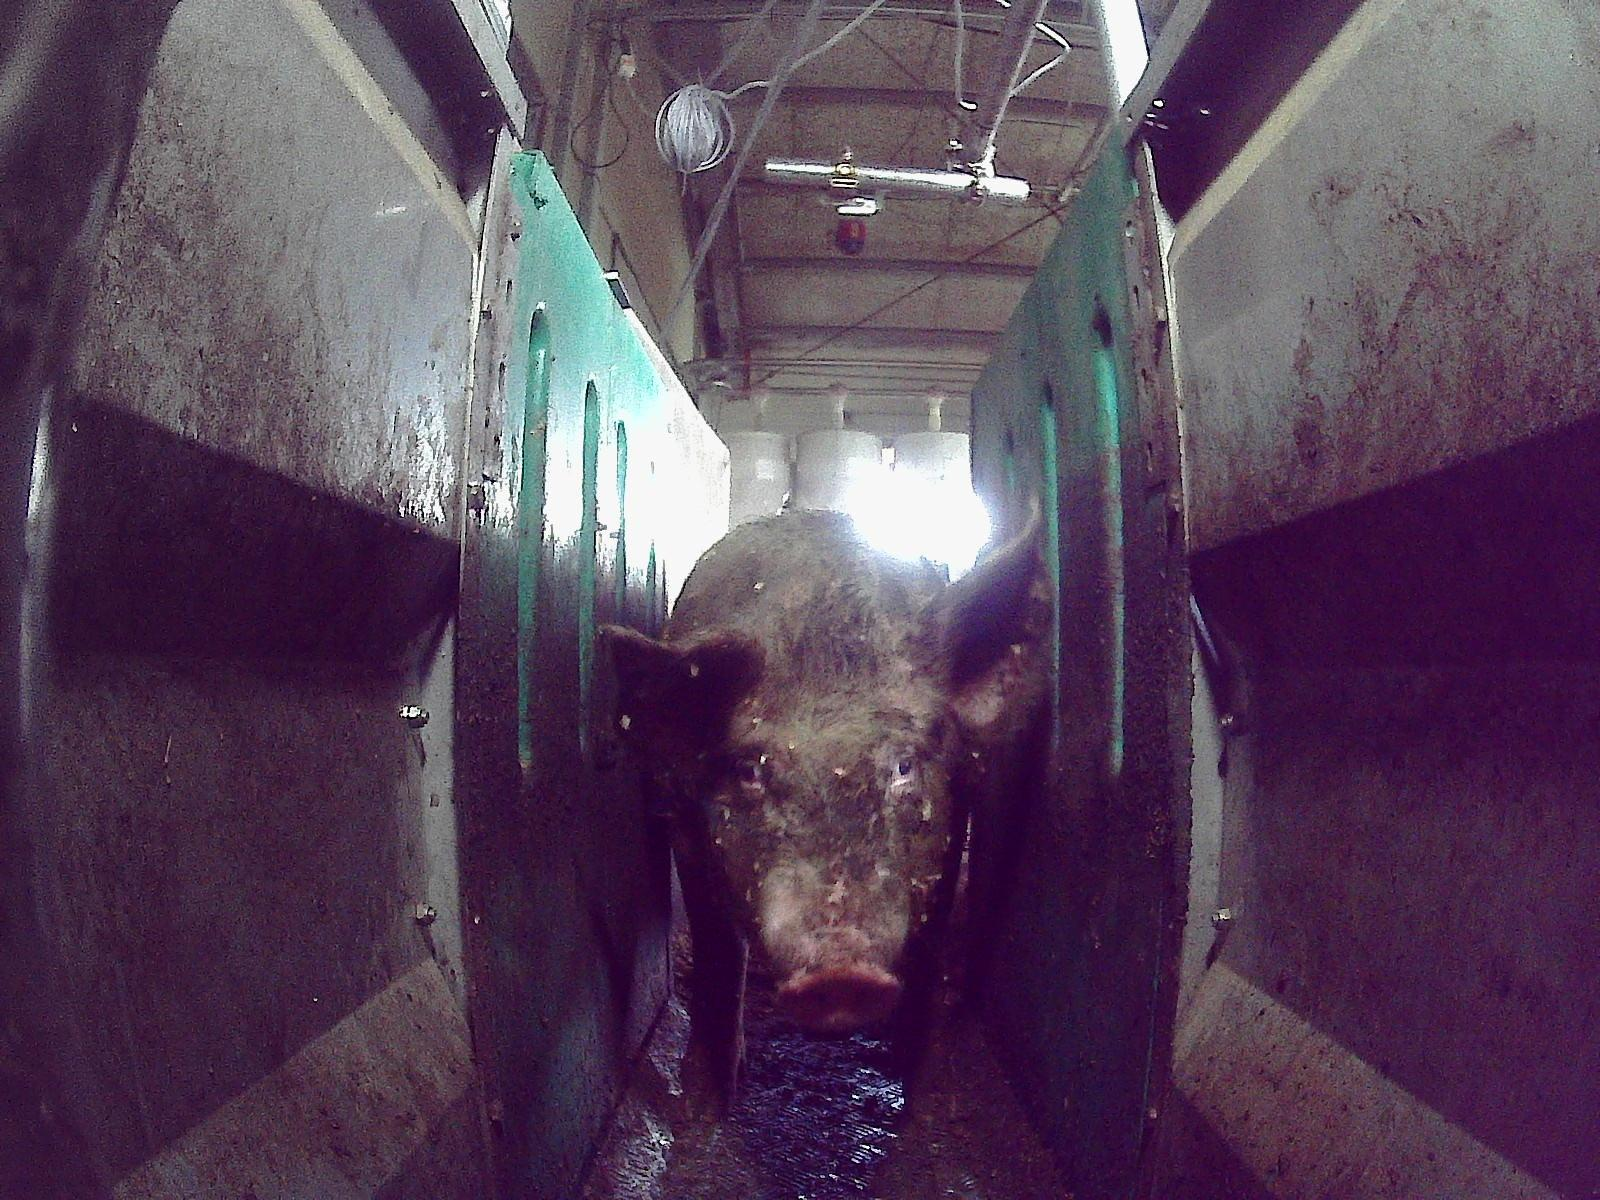Face: (694, 603, 944, 1034)
